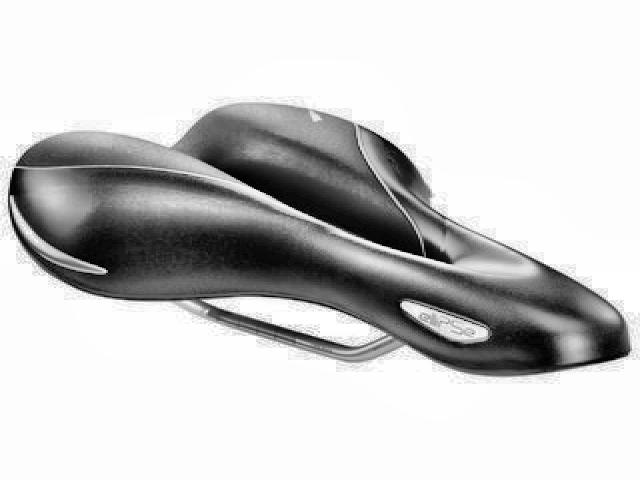saddle: (8, 99, 633, 385)
